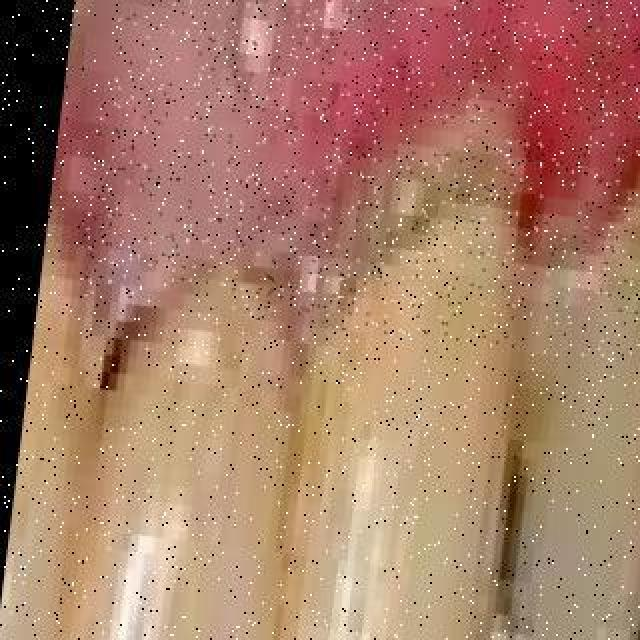calculus: (333, 96, 523, 408), (103, 256, 345, 418), (530, 160, 640, 358)
spacing: (454, 424, 544, 640), (624, 470, 640, 640)
